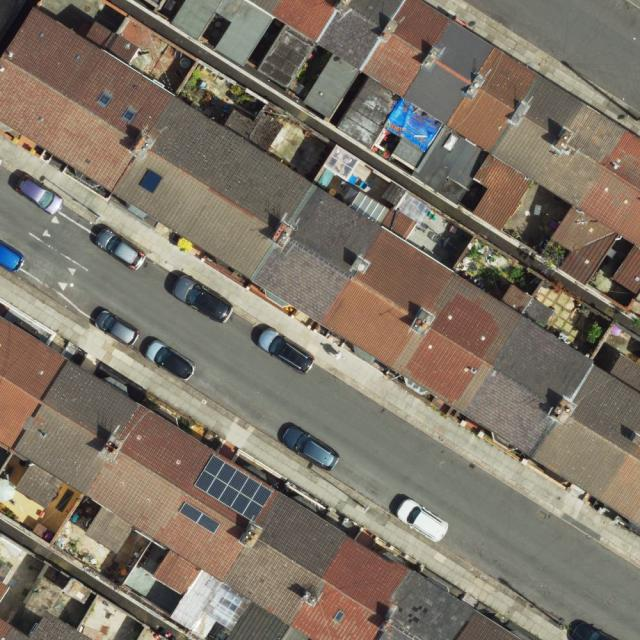roof: (0, 8, 640, 525), (0, 317, 525, 640), (169, 0, 638, 296), (1, 610, 91, 640), (1, 582, 9, 603)
skylight: (97, 92, 113, 108), (121, 108, 136, 121), (334, 611, 343, 622)
solar: (195, 453, 273, 523), (176, 500, 221, 534), (138, 170, 162, 195)
